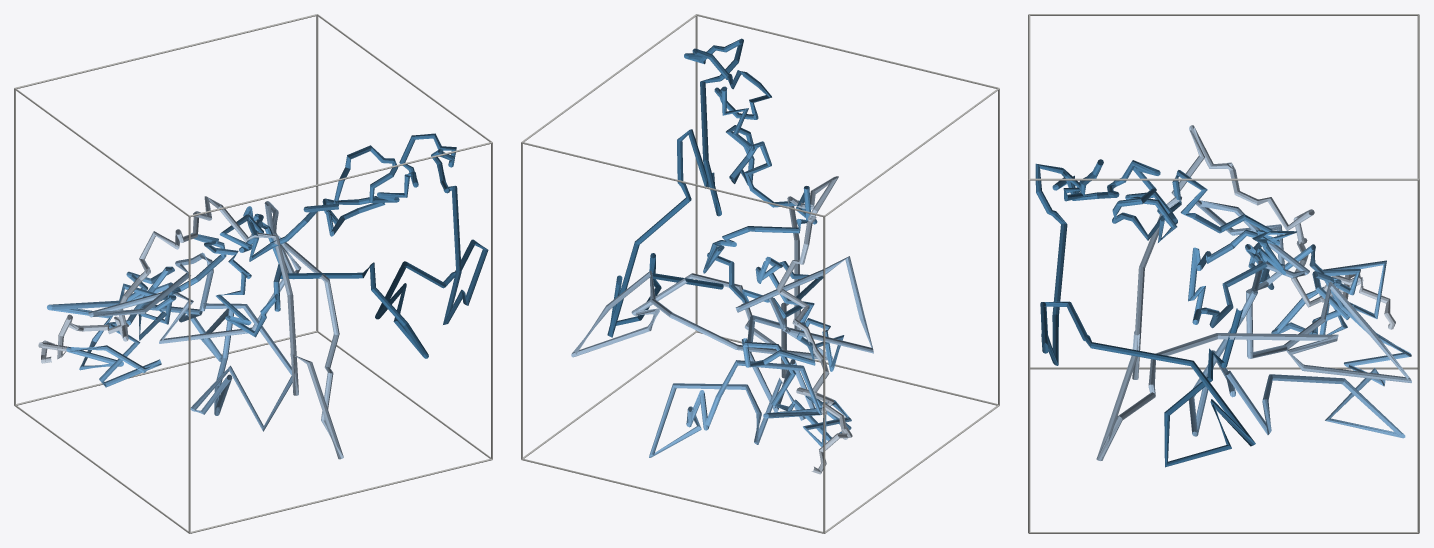
3 renders of one model, left to right at view 1: azimuth 30°, elevation 25°; view 2: azimuth 150°, elevation 25°; view 3: azimuth 270°, elevation 25°, orthographic. The views are drawn at different scales.
Parts seen in each view (by area): view 1: geometry_0, geometry_1; view 2: geometry_0, geometry_1; view 3: geometry_0, geometry_1.
Part boxes in pixels (box(x1,y1,x2,y2)): geometry_0: box(38, 133, 488, 459); geometry_1: box(14, 14, 492, 533); geometry_0: box(571, 38, 873, 474); geometry_1: box(521, 14, 999, 533); geometry_0: box(1035, 125, 1411, 467); geometry_1: box(1028, 14, 1419, 533).
Bounding box in the file's own units: 0.3047 × 0.3014 × 0.3016.
